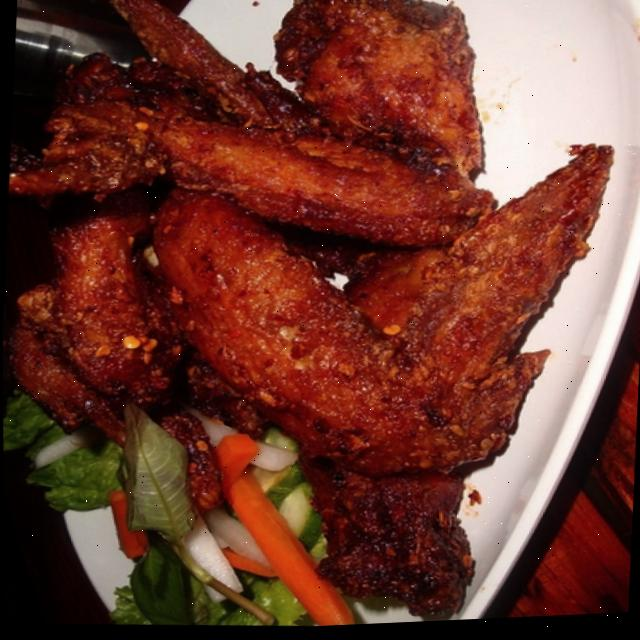鸡肉料理 含炸鸡: (0, 0, 625, 640)
